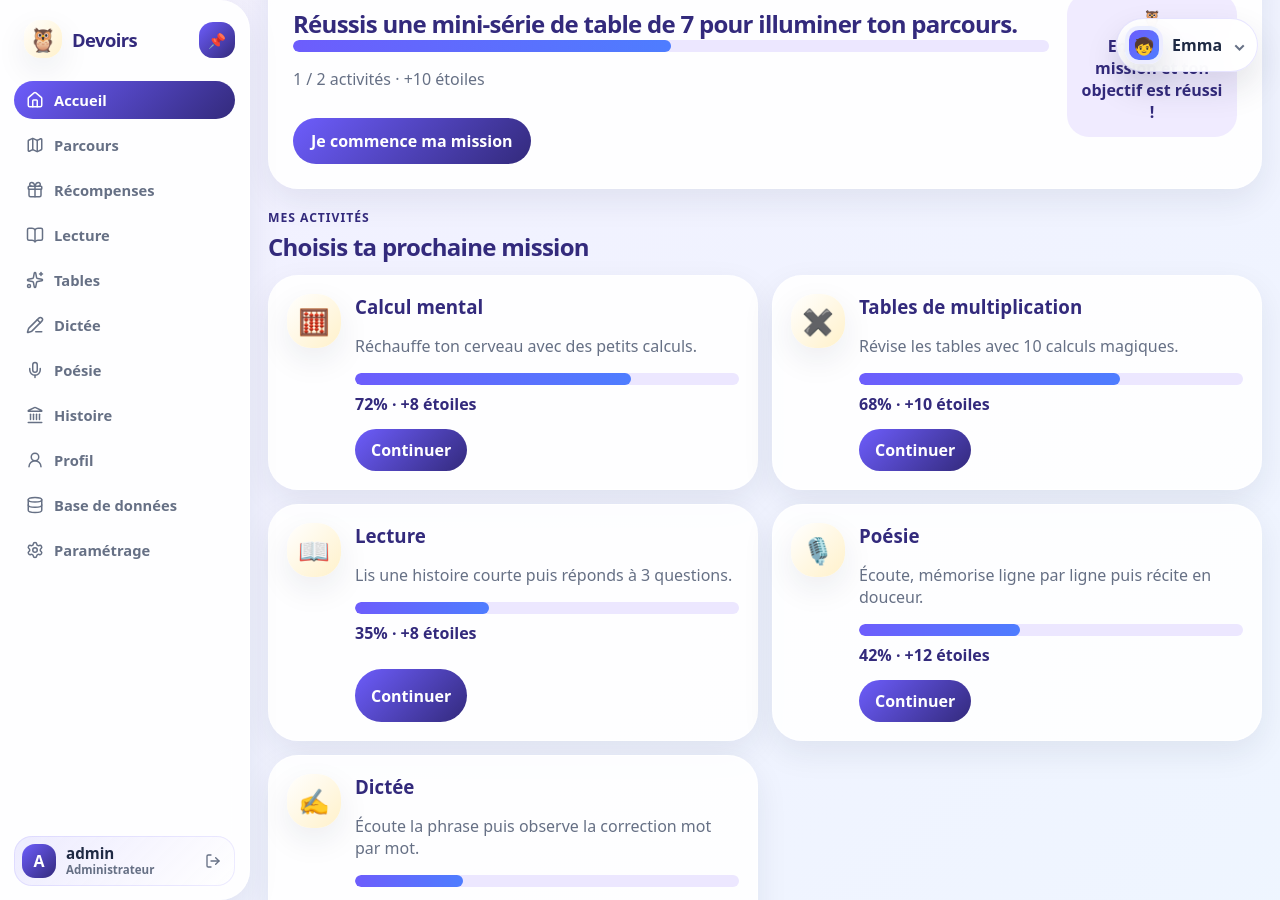
Lots 5-11 complete child interface › enriches multiplication into a 2-to-10 magical mastery session
This screenshot has width=1280, height=900.
(page scrolled)
Click the button "Continuer" below "68" at (915, 450), box [859,429,971,471]
(page scrolled)
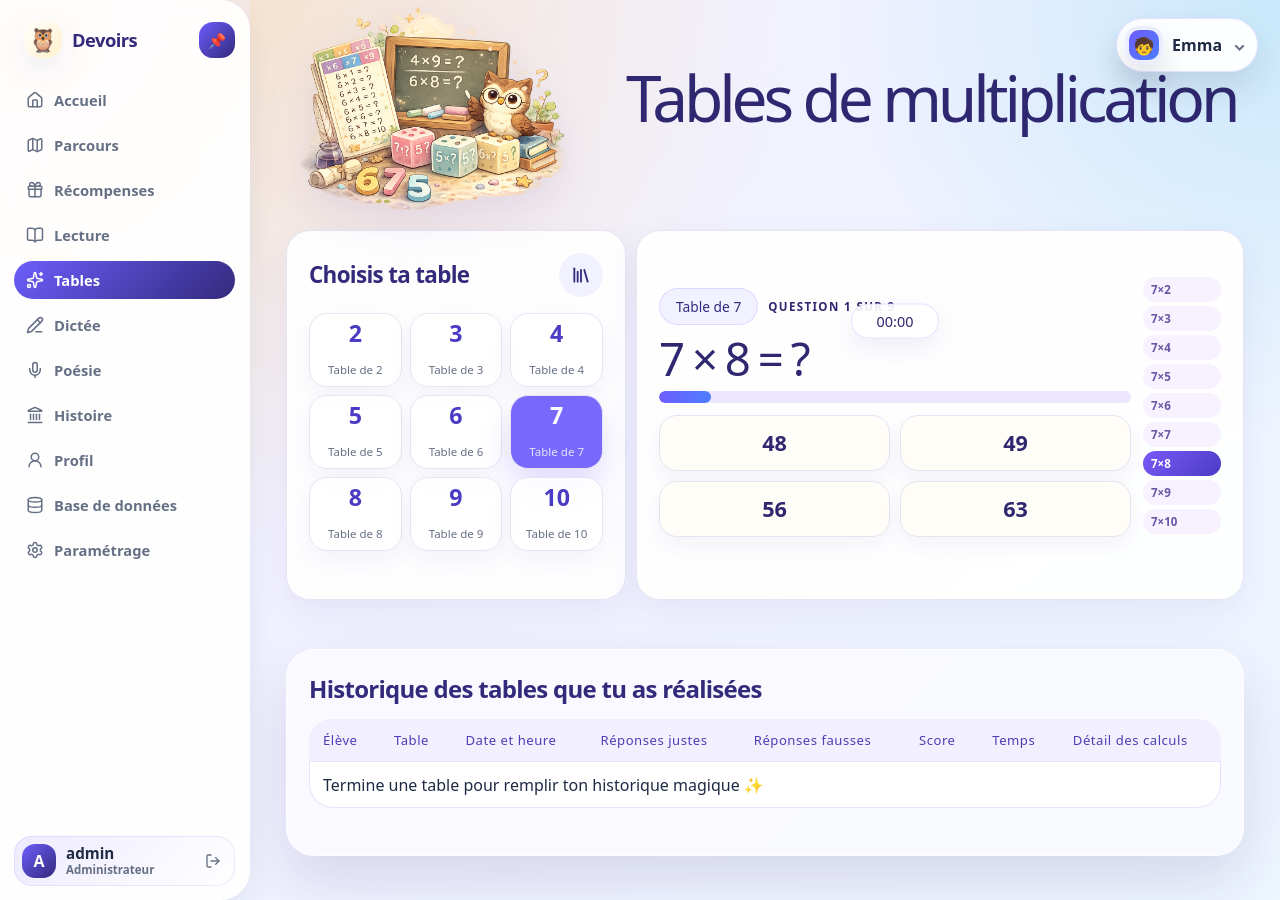
Check: the navigation bar named "navigation enfant" is shown, box [0,0,250,899]
Check: the text "Question 1 sur 9" is shown, box [768,299,896,314]
Click the button "49" at (1016, 443), box [900,415,1131,471]
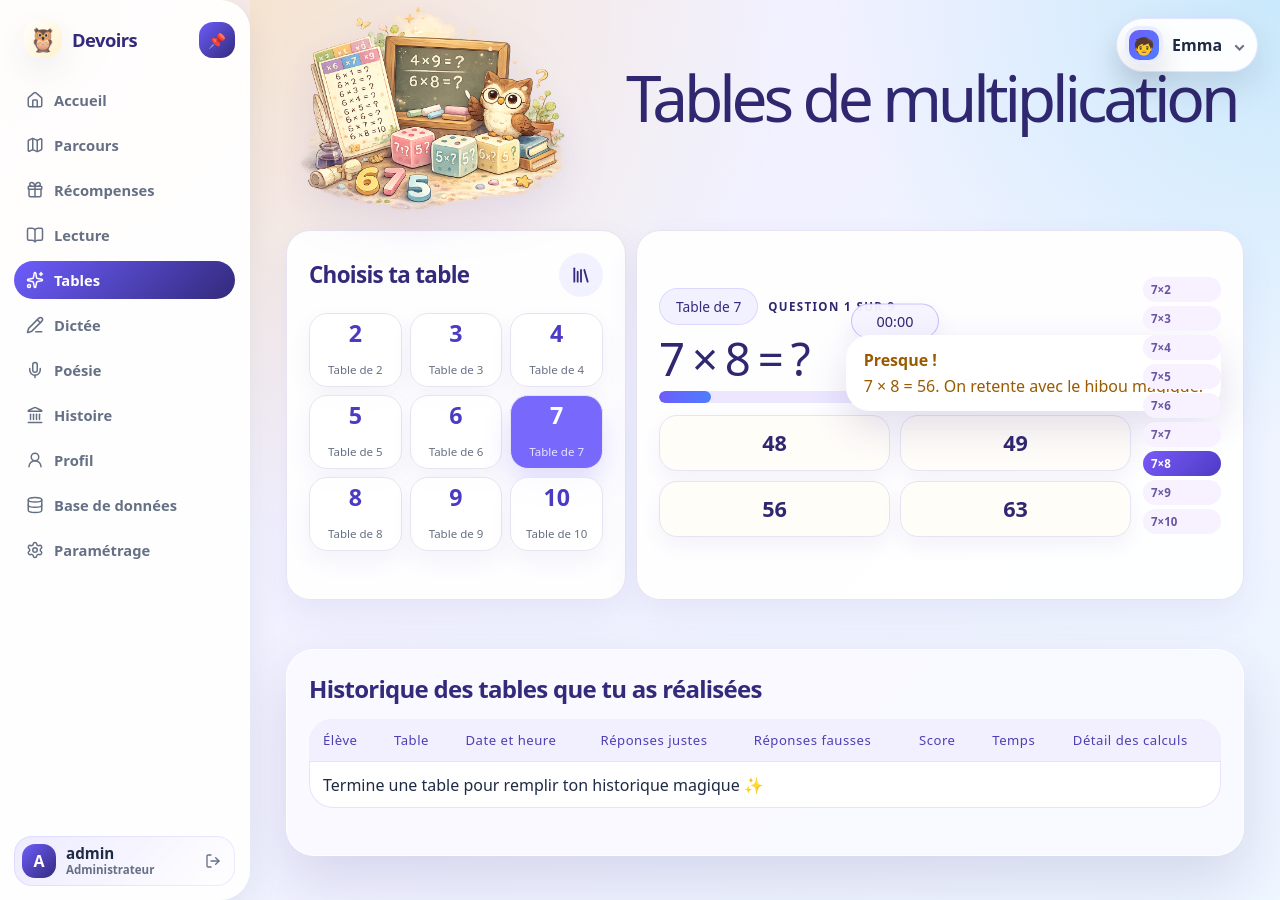
Check: the heading "7 × 8 = ?" is shown, box [659,328,808,390]
Check: the text "7 × 8 = 56. On retente avec le hibou magique." is shown, box [864,375,1203,397]
Click the button "56" at (774, 509), box [659,481,890,537]
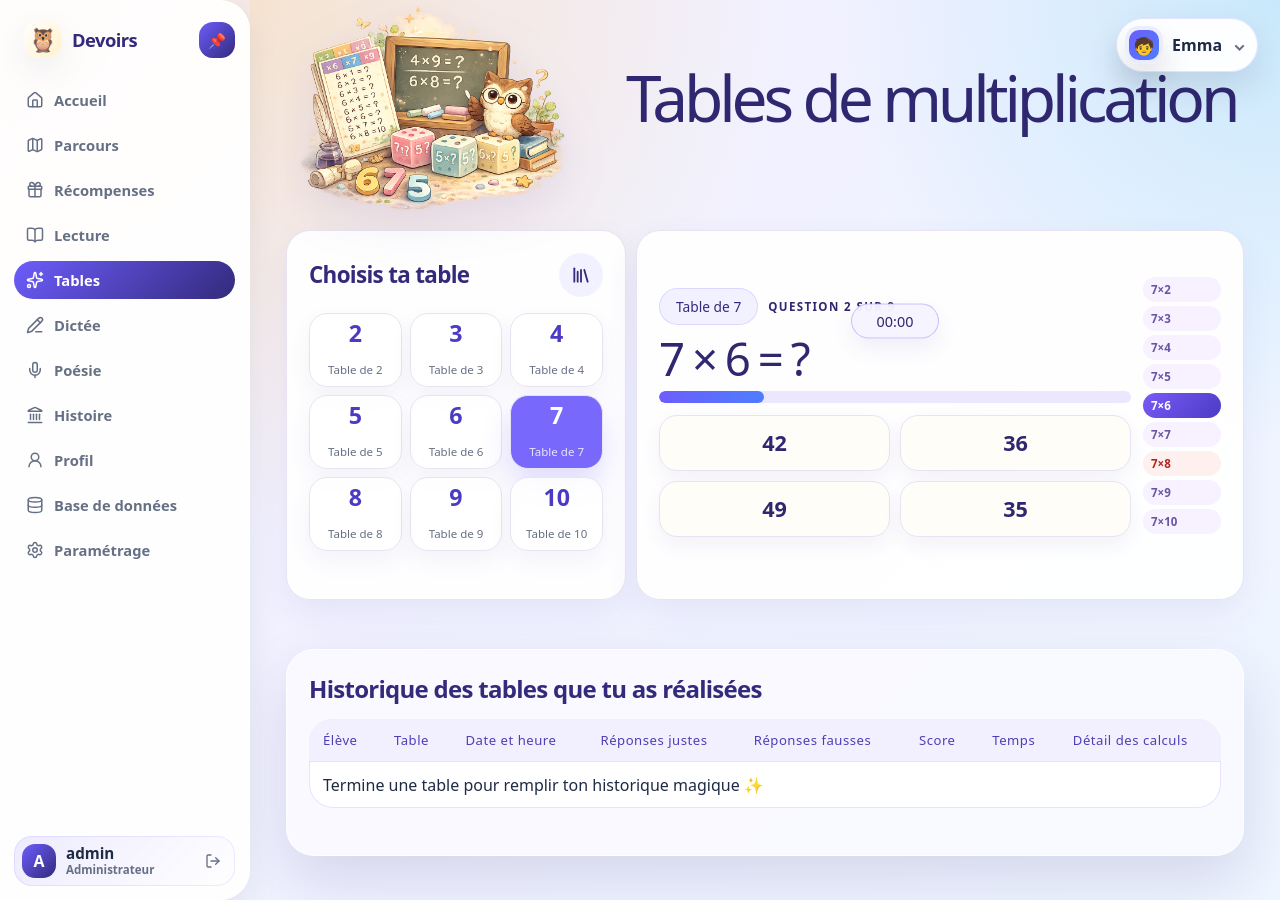
Check: the text "Question 2 sur 9" is shown, box [768,299,896,314]
